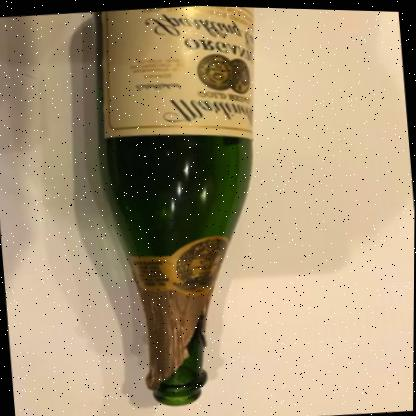Glass: (100, 5, 254, 404)
